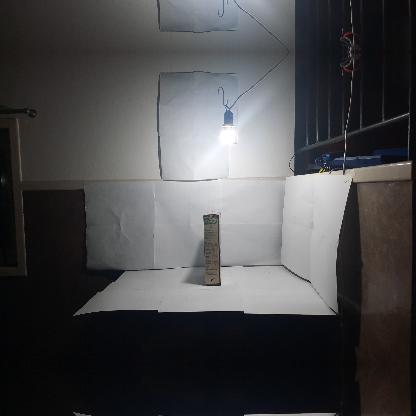Koko-Krunch: (203, 211, 221, 285)
